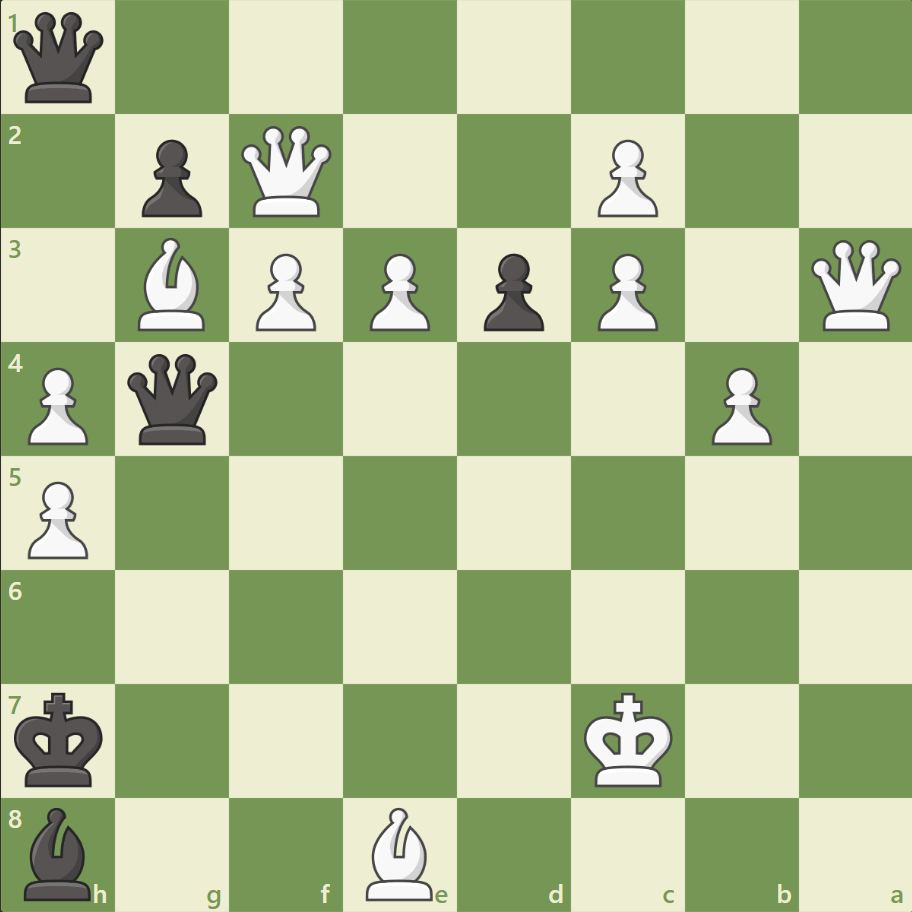B: (358, 801, 442, 904), (131, 233, 215, 336)
K: (579, 685, 679, 793)
P: (20, 473, 95, 564), (701, 359, 776, 450), (20, 359, 95, 450), (247, 246, 322, 337), (588, 246, 662, 337), (361, 246, 435, 337), (588, 132, 662, 223)
Q: (237, 122, 336, 222), (805, 236, 904, 335)
b: (17, 801, 101, 904)
k: (11, 685, 111, 793)
p: (474, 246, 549, 337), (133, 132, 208, 223)
q: (124, 349, 223, 449), (10, 9, 109, 108)
